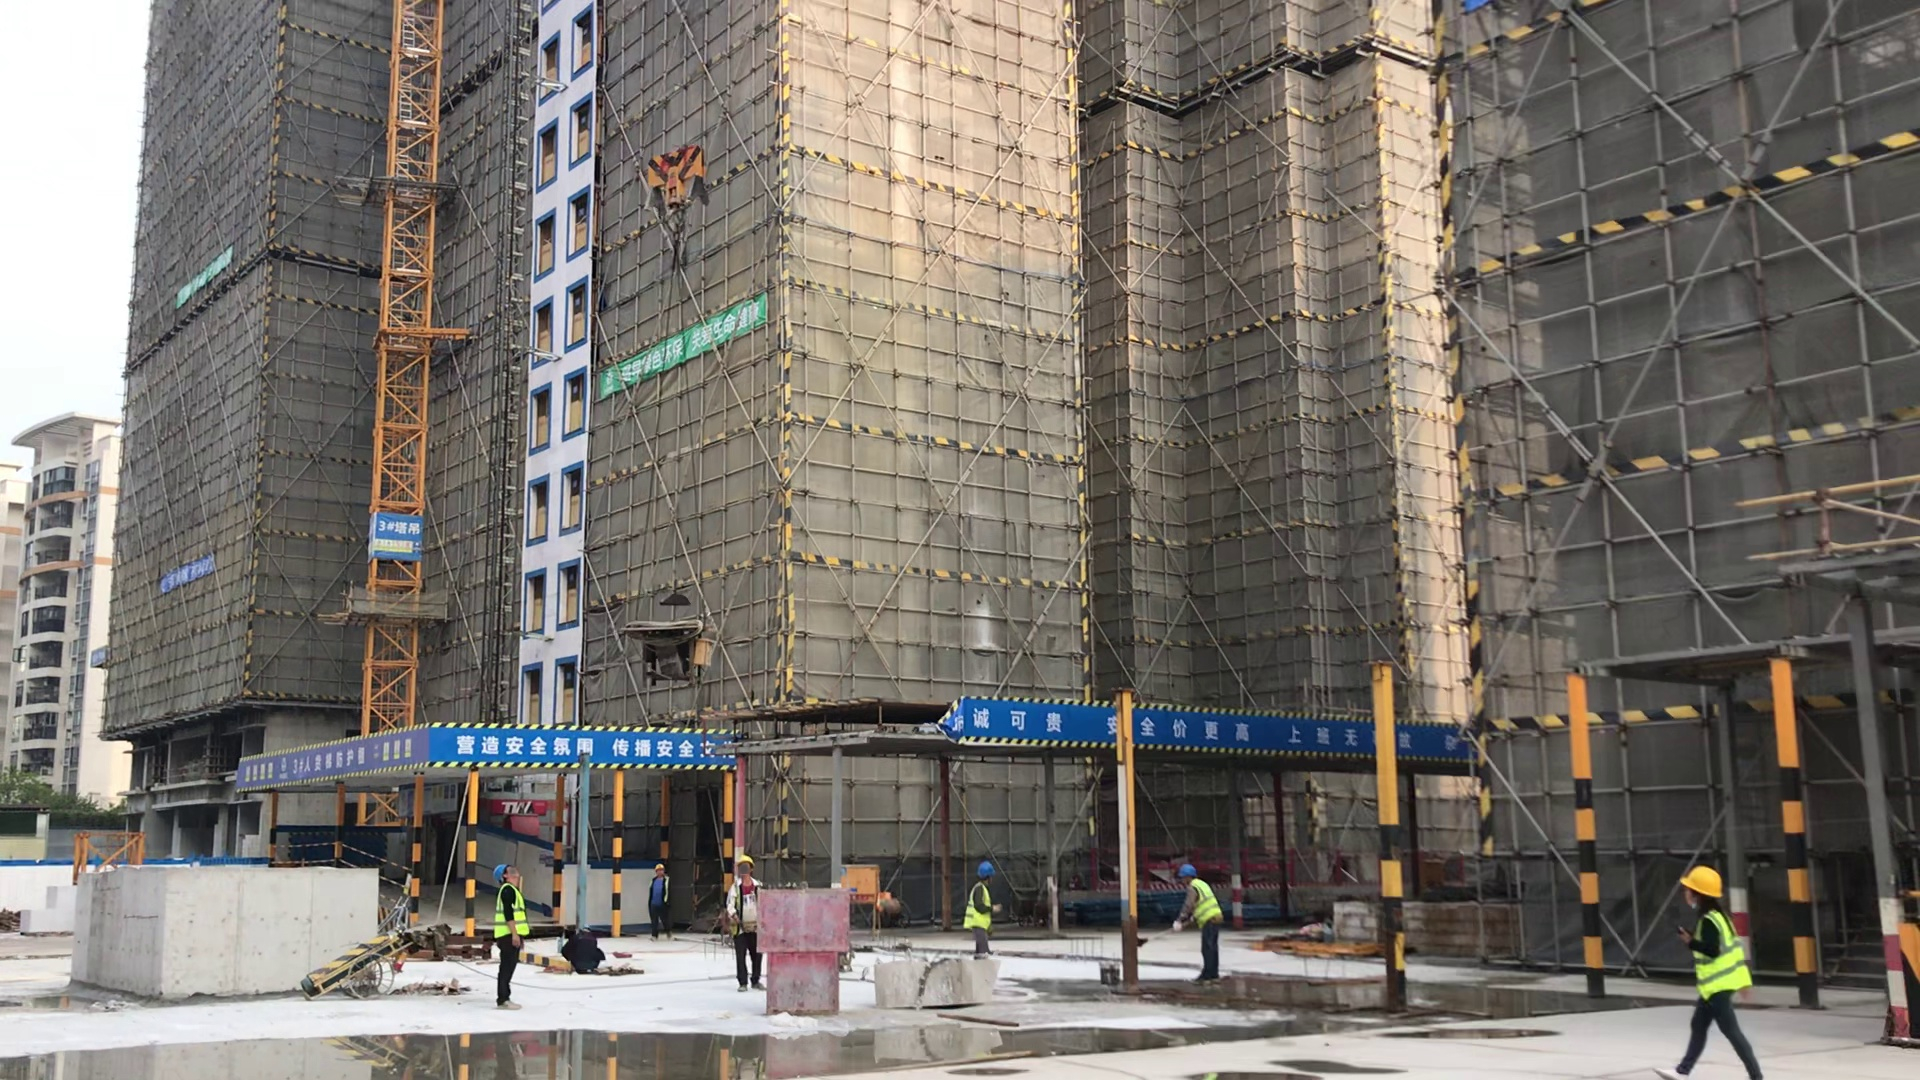ebox: (842, 861, 884, 905)
fence: (1096, 851, 1464, 892)
helmet: (1676, 863, 1726, 901), (491, 863, 510, 883), (974, 860, 998, 877), (1179, 864, 1198, 878), (735, 854, 755, 867), (653, 862, 666, 871)
hook: (641, 137, 716, 267)
hopper: (873, 950, 1001, 1011)
person: (1645, 862, 1796, 1055), (1141, 857, 1228, 981), (479, 859, 541, 1014), (720, 857, 781, 996), (957, 857, 1010, 958), (639, 861, 687, 947)
slogan: (955, 682, 1465, 763), (596, 291, 765, 404), (427, 715, 738, 771), (242, 718, 434, 794), (175, 247, 233, 308), (162, 556, 216, 594)
vest: (490, 886, 530, 937), (1184, 879, 1221, 928), (965, 884, 997, 932)
